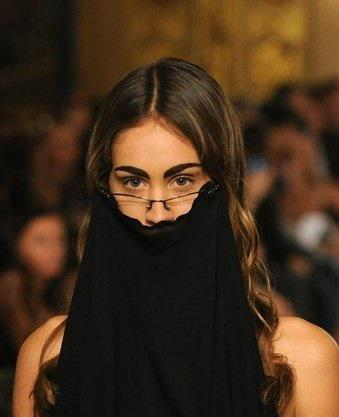WRONG: (100, 148, 217, 265)
